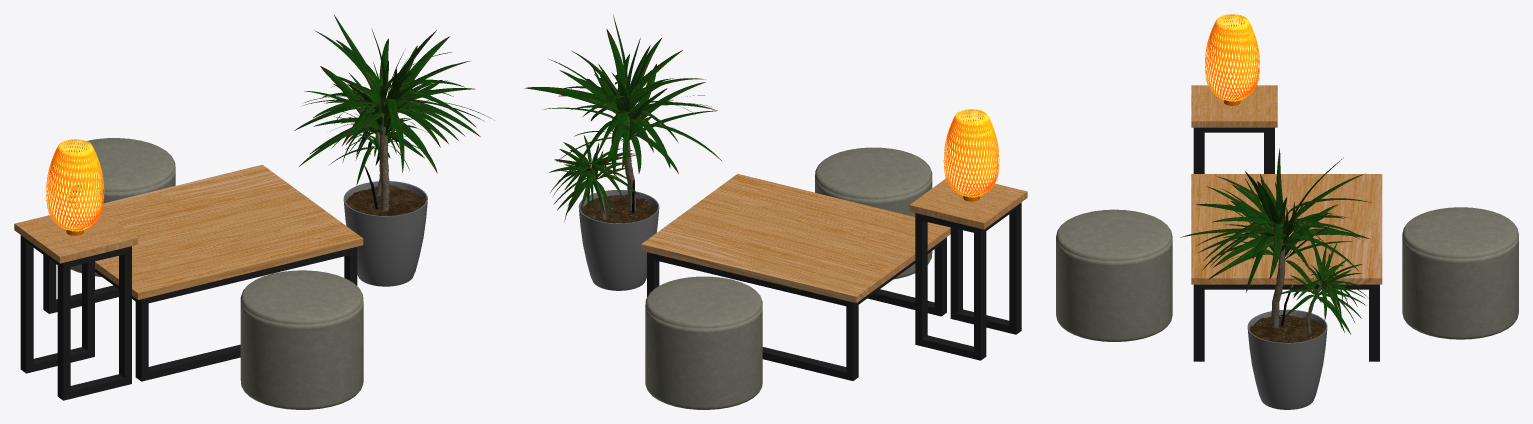
The model's file is cylinder_seat__table__bamboo_lamp.glb.
The picture shows the model from 3 angles, left to right: view 1: azimuth 30°, elevation 25°; view 2: azimuth 150°, elevation 25°; view 3: azimuth 270°, elevation 25°; orthographic projection. The views are drawn at different scales.
Parts seen in each view (by area): view 1: LowTabme.001, Cylinder.022, LowTabme.002, Pot.003, Bamboo Exter.001, Cylinder.023, Dirt.002, Trunc.003, Plane.768, Plane.778; view 2: LowTabme.001, Cylinder.023, LowTabme.002, Cylinder.022, Pot.003, Bamboo Exter.001, Dirt.002, Plane.772; view 3: LowTabme.001, Cylinder.023, Cylinder.022, Pot.003, LowTabme.002, Bamboo Exter.001, Dirt.002, Trunc.003.
Boxes of the visible parts, x1,y1,x2,y2 form: LowTabme.001: (43,164,363,381); Cylinder.022: (240,270,363,409); LowTabme.002: (14,208,137,400); Pot.003: (343,181,427,286); Bamboo Exter.001: (46,139,104,231); Cylinder.023: (53,138,175,276); Dirt.002: (346,184,425,215); Trunc.003: (379,116,389,211); Plane.768: (396,99,480,136); Plane.778: (334,15,382,105); LowTabme.001: (641,174,950,380); Cylinder.023: (645,276,762,409); LowTabme.002: (909,178,1027,360); Cylinder.022: (815,147,932,279); Pot.003: (578,190,659,290); Bamboo Exter.001: (943,109,999,197); Dirt.002: (581,194,656,223); Plane.772: (524,87,620,112); LowTabme.001: (1191,174,1382,361); Cylinder.023: (1402,207,1518,339); Cylinder.022: (1056,209,1172,341); Pot.003: (1247,309,1327,409); LowTabme.002: (1191,85,1277,173); Bamboo Exter.001: (1205,14,1259,101); Dirt.002: (1250,314,1324,342); Trunc.003: (1271,244,1285,327).
Bounding box in the file's own units: 2.34 × 1.25 × 2.15.
Materials: 10 (6 with a texture image).
